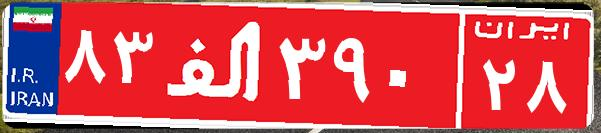0: (385, 28, 445, 110)
2: (475, 38, 525, 113)
3: (273, 28, 330, 110), (110, 28, 158, 105)
8: (57, 26, 110, 107), (525, 38, 570, 115)
9: (330, 28, 385, 110)
الف: (158, 15, 273, 115)
